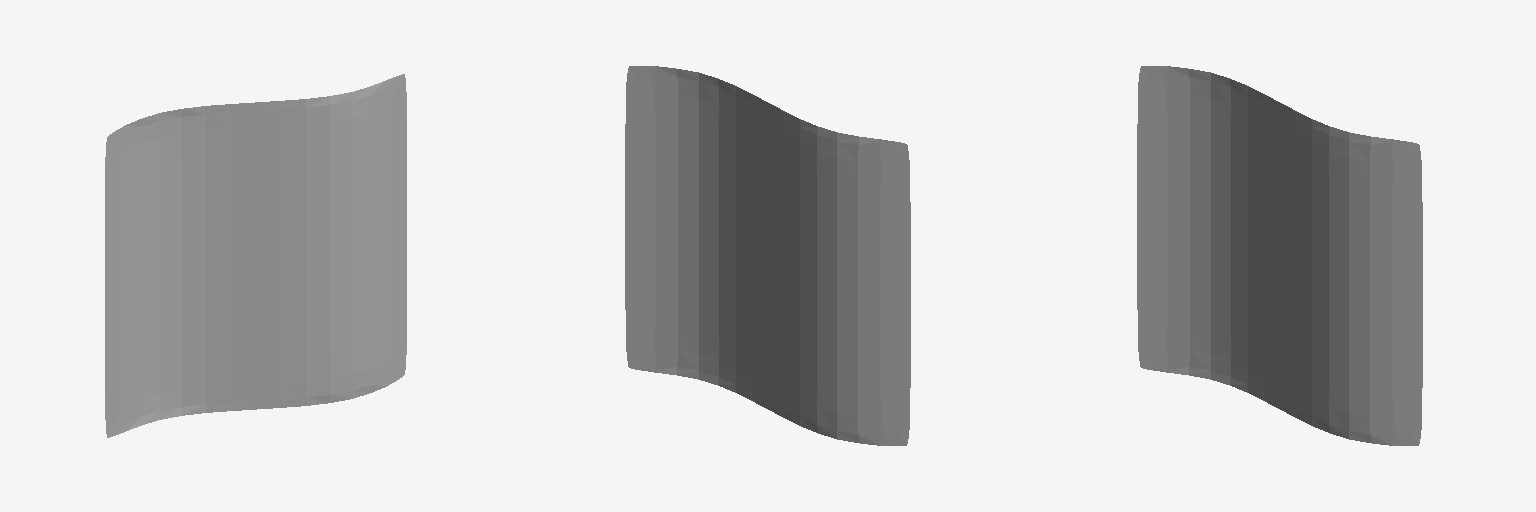
3 renders of one model, left to right at view 1: azimuth 30°, elevation 25°; view 2: azimuth 150°, elevation 25°; view 3: azimuth 330°, elevation 25°, orthographic.
Visible parts, largest first — view 1: sine_Plane; view 2: sine_Plane; view 3: sine_Plane.
Boxes of the visible parts, <box> form: sine_Plane: <box>105,74,406,437</box>; sine_Plane: <box>625,66,910,445</box>; sine_Plane: <box>1137,66,1422,445</box>.
Size of the model in its own units: 1.78 by 1.78 by 0.2906.